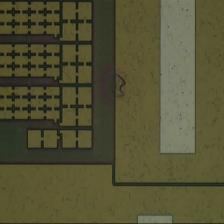PARTICLE: (106, 72, 129, 100)
